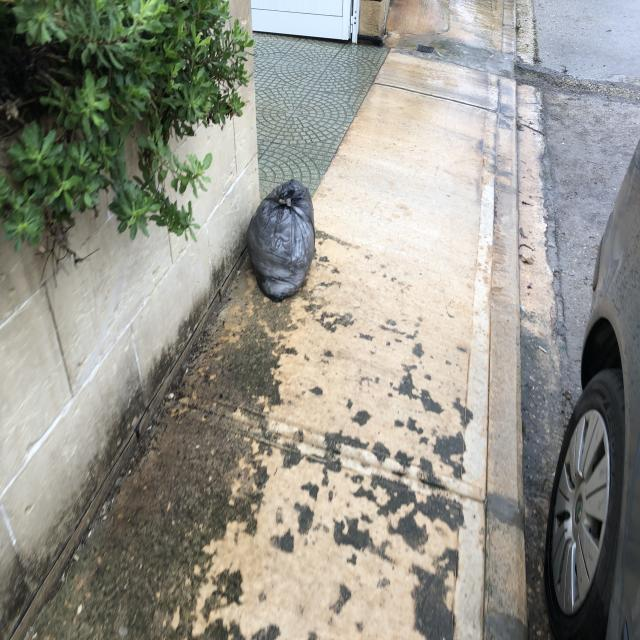Mixed Waste -Black Bag-: (247, 181, 315, 301)
